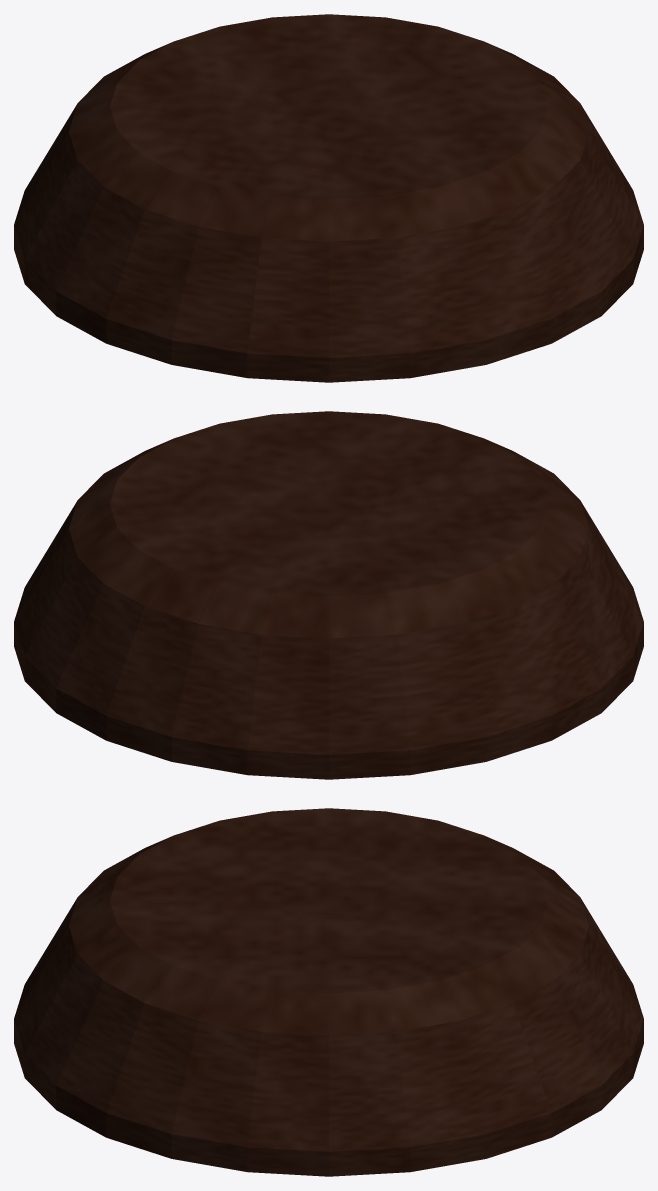
Rendered from AuxAmmoNitrogenousMix.fbx.
3 views of the same model, one above another, from view 1: azimuth 30°, elevation 25°; view 2: azimuth 150°, elevation 25°; view 3: azimuth 270°, elevation 25° (orthographic).
Parts seen in each view (by area): view 1: AuxAmmoNitrogenousMix_export; view 2: AuxAmmoNitrogenousMix_export; view 3: AuxAmmoNitrogenousMix_export.
Part boxes in pixels (x1,y1,x2,y2): AuxAmmoNitrogenousMix_export: (14, 14, 643, 382); AuxAmmoNitrogenousMix_export: (14, 411, 643, 779); AuxAmmoNitrogenousMix_export: (14, 808, 643, 1176).
Size of the model in its own units: 9.2 by 9.2 by 3.38.
